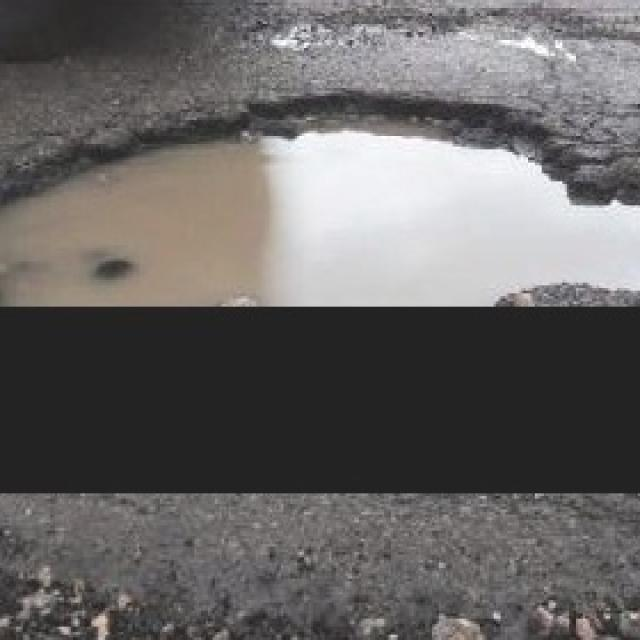road-pothole: (0, 94, 638, 311)
